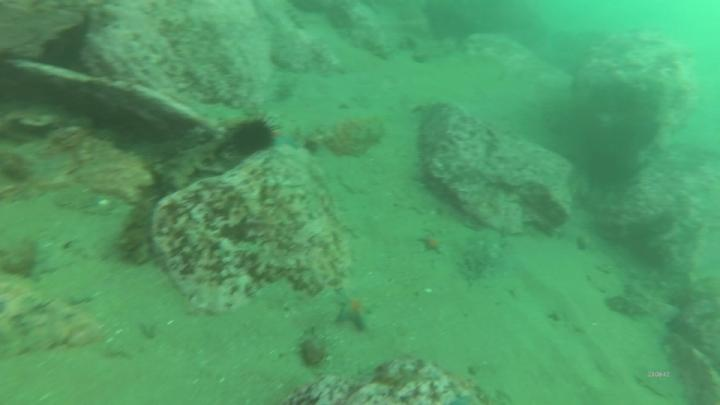echinus: (224, 110, 283, 161)
holothurian: (121, 140, 221, 266)
starfish: (334, 292, 377, 335), (416, 233, 448, 257), (272, 126, 291, 144)
